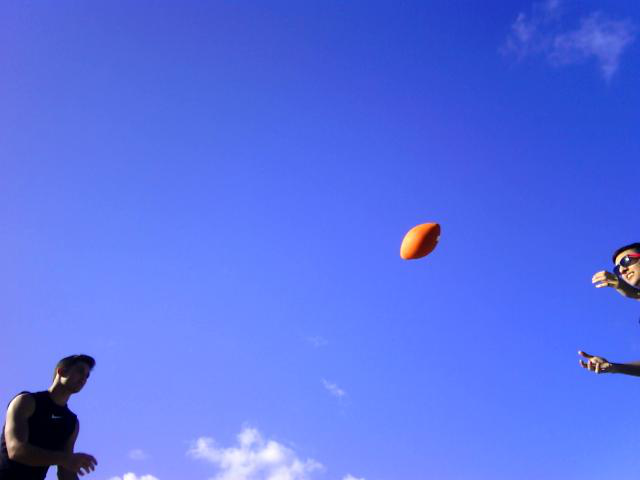football: (398, 216, 441, 266)
